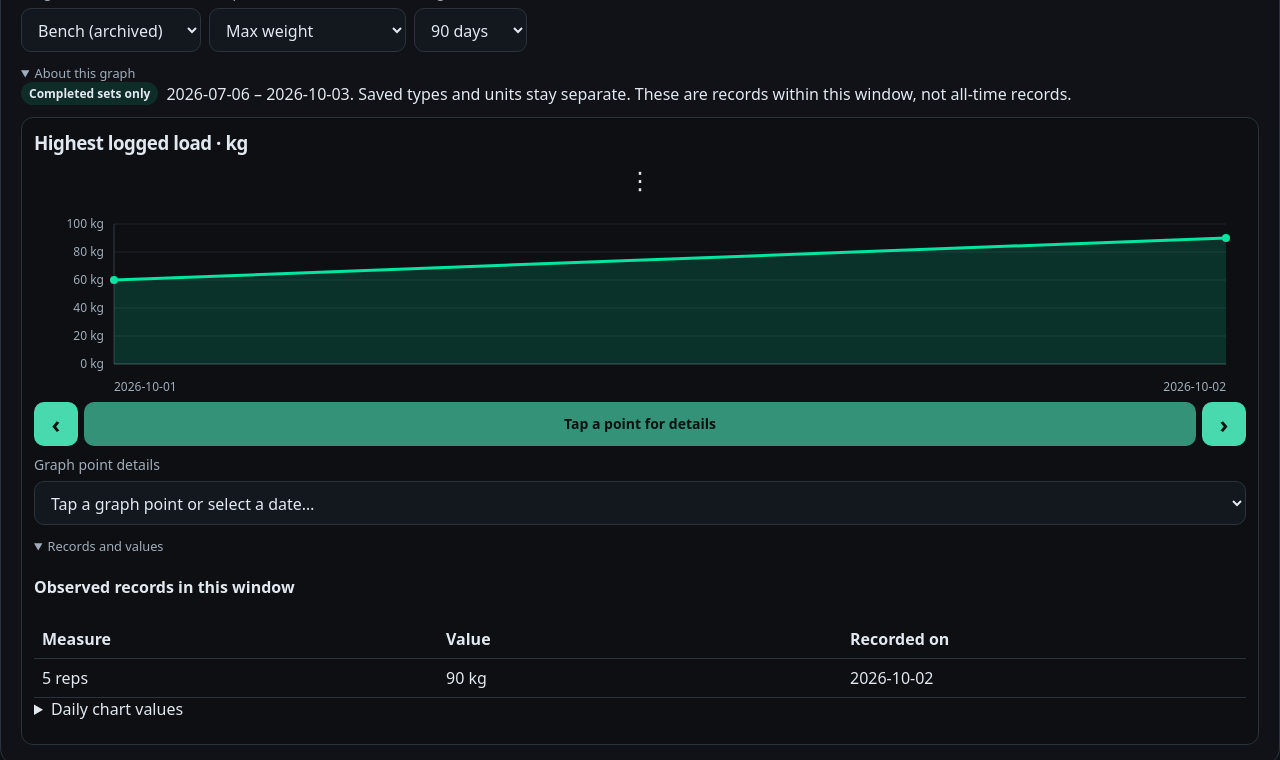
Test: offers the strength graph choices and switches to calculated estimated 1RM
Expected: the picture is shown, [34, 204, 1246, 394]
Select "Estimated 1RM" in the dropdown labelled "Graph" at point(308, 30), box [209, 8, 406, 52]
(page scrolled)
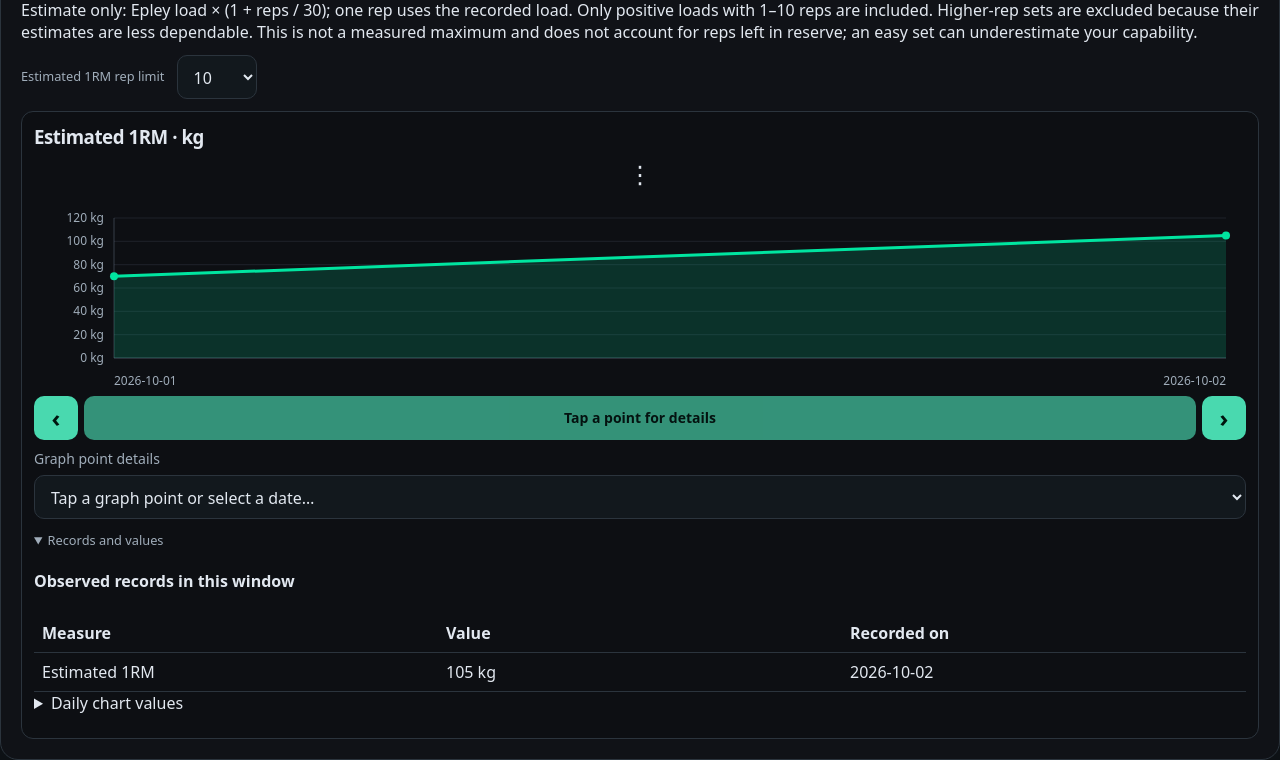
Expected: the picture named "Estimated 1RM by training date" is shown, [34, 198, 1246, 388]
Click the heading "Daily chart values".
click(117, 702)  # box [51, 692, 183, 714]
(page scrolled)
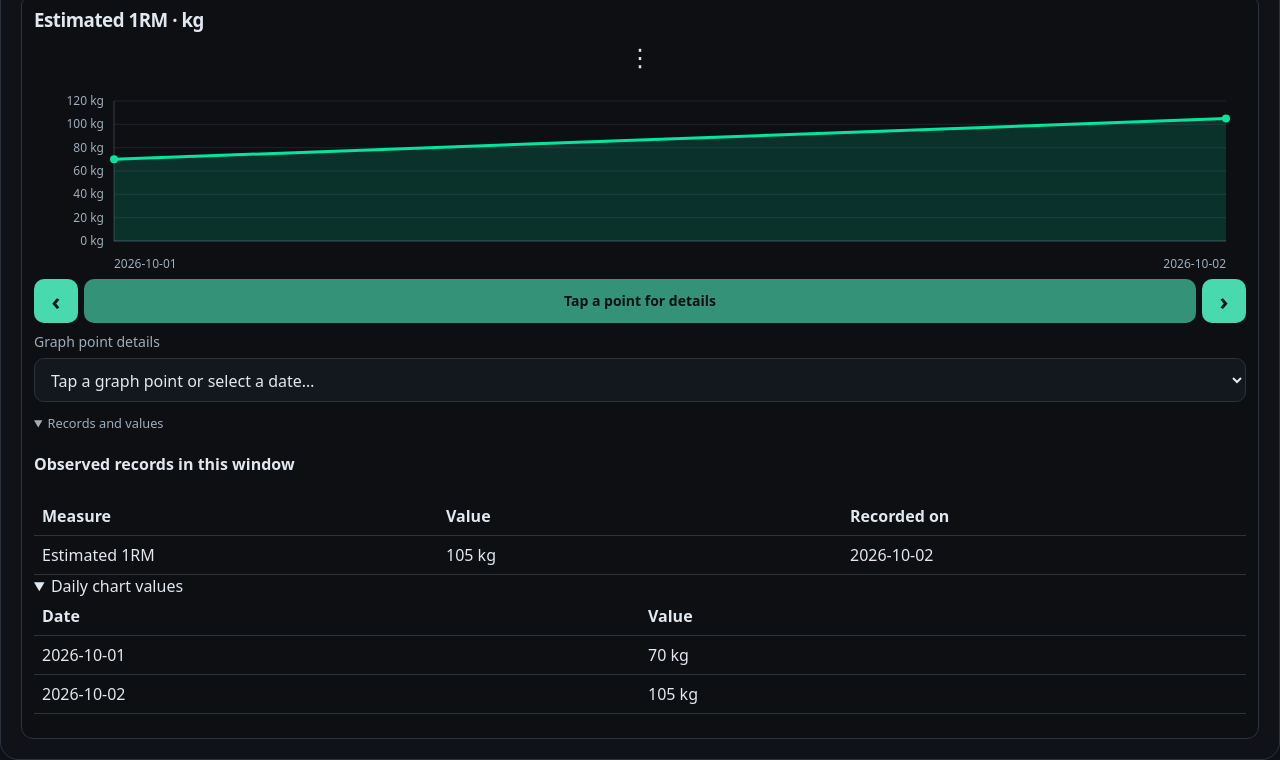
Expected: the text "105 kg" below "70 kg" is shown, [648, 682, 698, 704]
